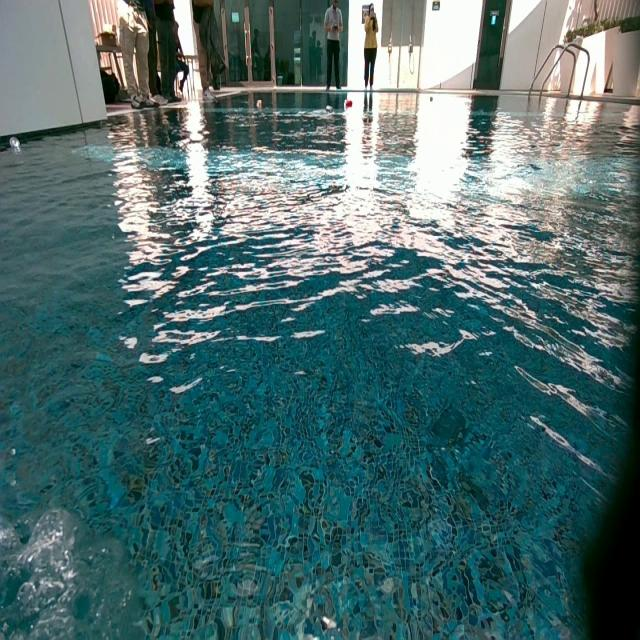Cans: (7, 137, 20, 150), (345, 99, 354, 108), (326, 104, 334, 114), (255, 100, 262, 110), (428, 95, 434, 104)
